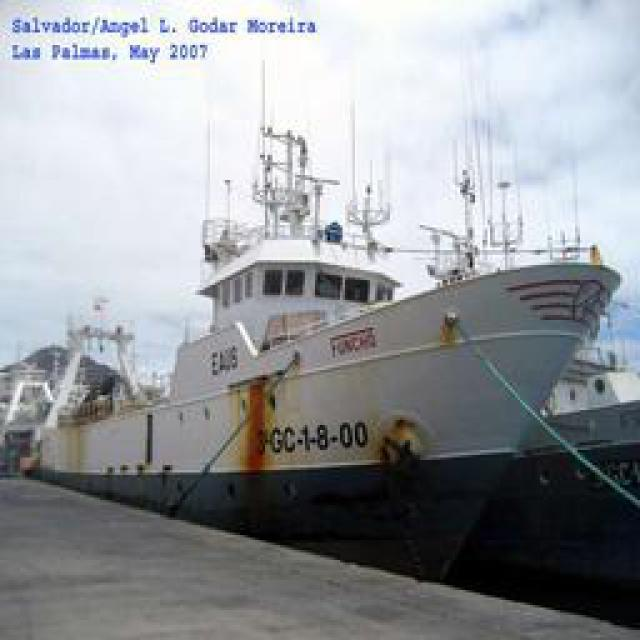Ship: (23, 166, 621, 529)
